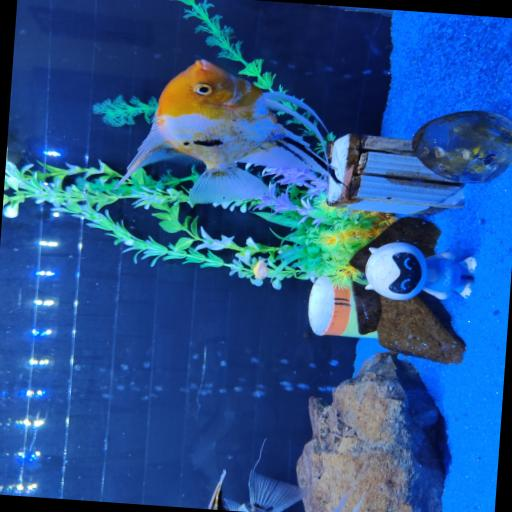Fish: (118, 60, 328, 203), (208, 470, 308, 511), (253, 257, 268, 279)
